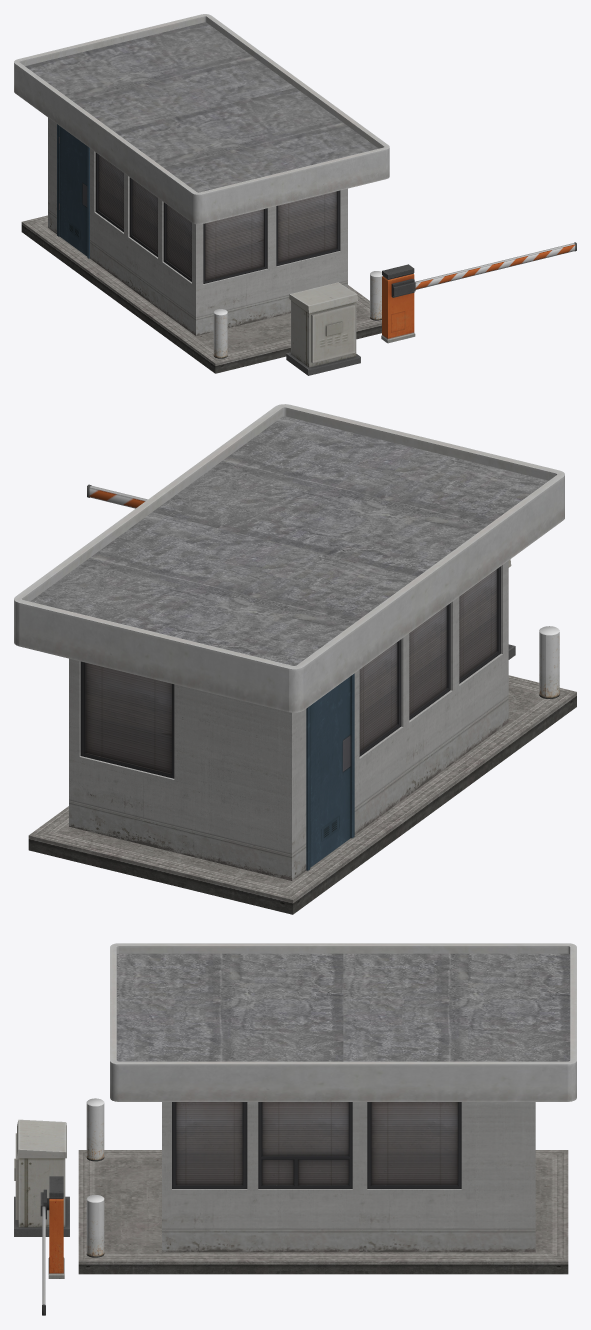
The model's file is IP_GuardPost.fbx.
3 views of the same model, one above another, from view 1: azimuth 30°, elevation 25°; view 2: azimuth 150°, elevation 25°; view 3: azimuth 270°, elevation 25° (orthographic). The views are drawn at different scales.
Parts seen in each view (by area): view 1: Guard_Post; view 2: Guard_Post; view 3: Guard_Post.
Part boxes in pixels (bbox=[...]): Guard_Post: bbox=[14, 14, 576, 375]; Guard_Post: bbox=[14, 404, 576, 914]; Guard_Post: bbox=[14, 943, 576, 1315].
Size of the model in its own units: 11.21 by 5.16 by 12.21.
1 material, 1 textured.
